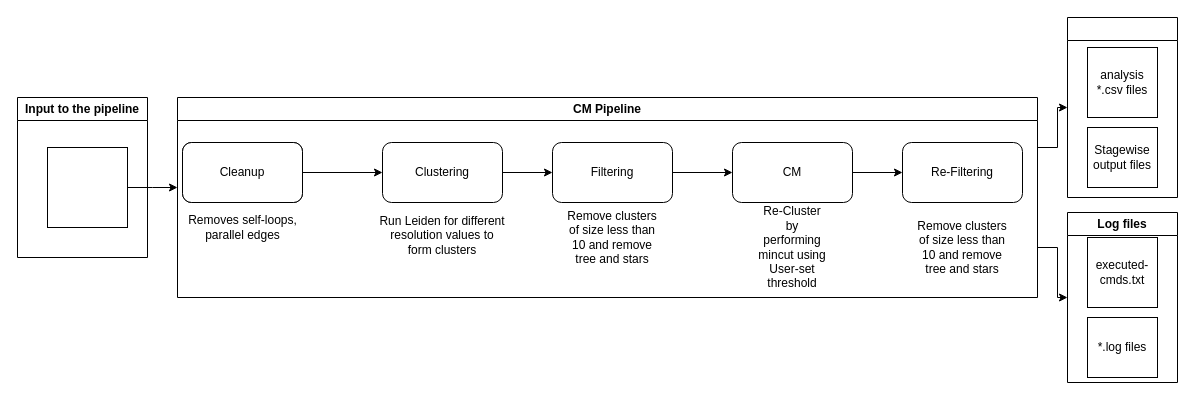
Some shapes in this 1195 by 400 pixel diagram are drawn without their labels. The shapes that lost their labels are listed below. From the top down, each one's centre as x and y in pixels, then its label:
At (x=1122, y=107): "Output Files".
At (x=87, y=187): "Config file with key value pairs".
